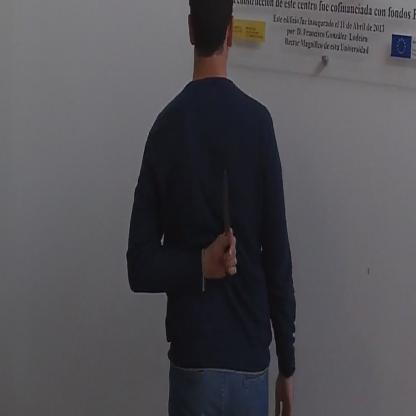knife: (216, 159, 240, 284)
